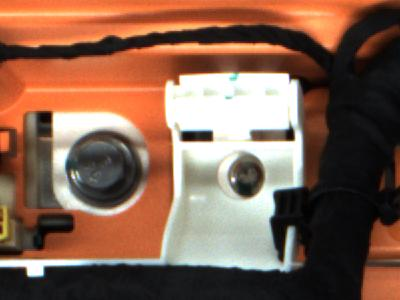nut_b: (49, 123, 165, 221)
